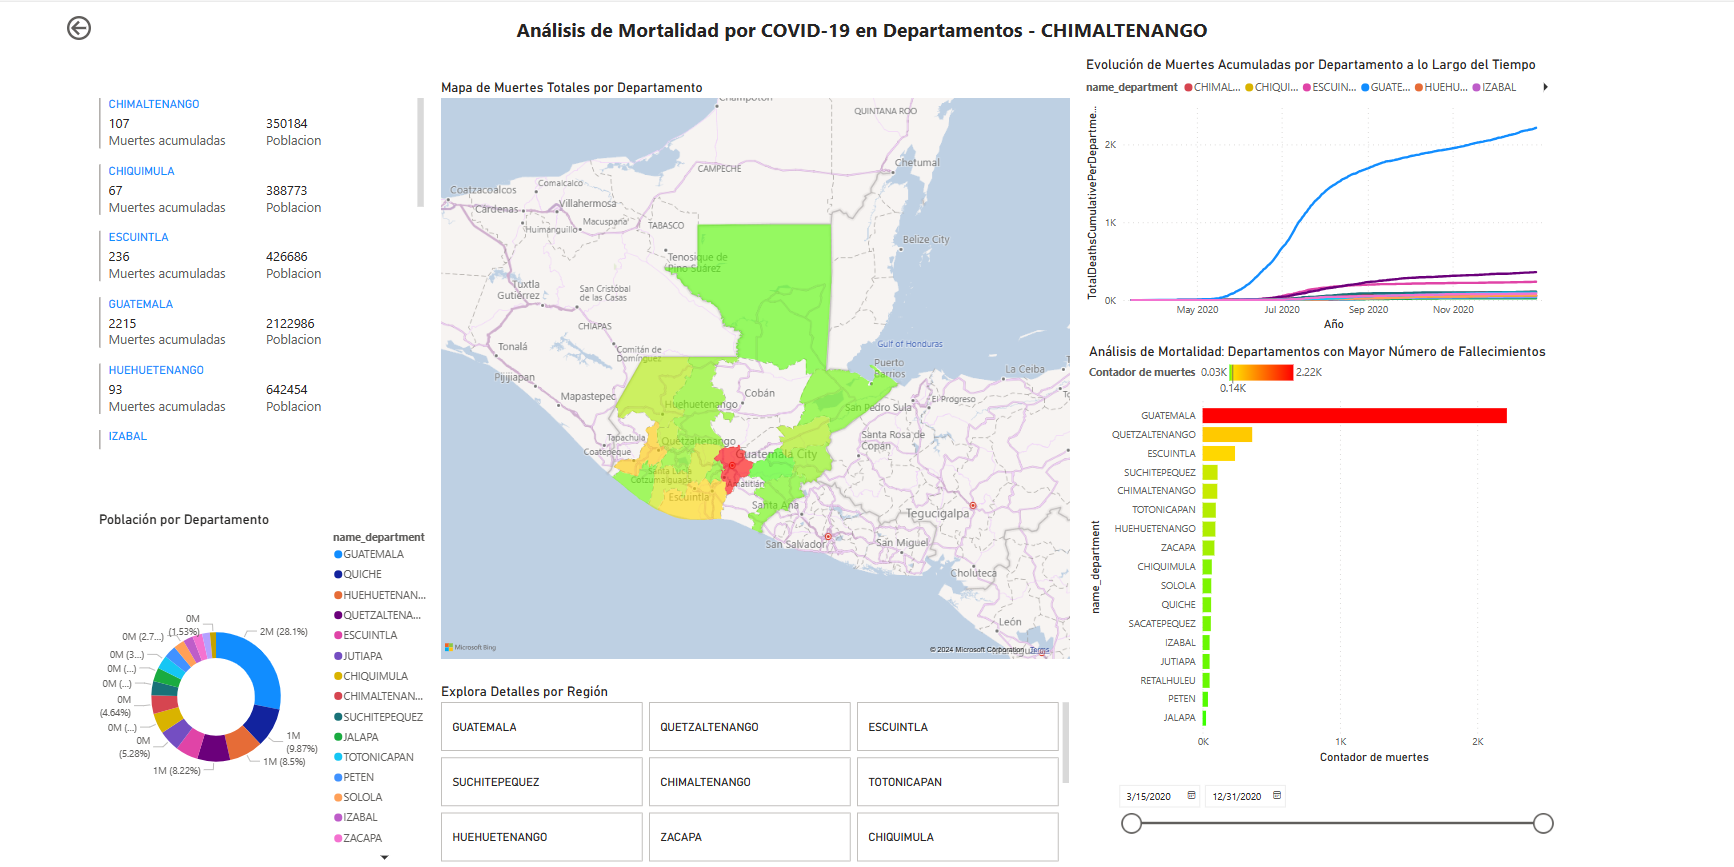

The page's visual inventory and layout, read from the dashboard file:
{"tool":"powerbi","page":{"name":"Análisis de Mortalidad por COVID-19 en Departamentos","canvas":[1920,1080],"ordinal":1},"visuals":[{"type":"filledMap","title":"Mapa de Muertes Totales por Departamento","fields":{"Category":["Department.ubicacion"]},"box":[468,83.4,795.7,730],"z":0},{"type":"advancedSlicerVisual","title":"Explora Detalles por Región","fields":{"Values":["Department.name_department"]},"box":[468,839.1,795.7,230],"z":1000},{"type":"lineChart","title":"Evolución de Muertes Acumuladas por Departamento a lo Largo del Tiempo","fields":{"Category":["MunicipalityDeathsReported.date_reported.Variación.Jerarquía de fechas.Año","MunicipalityDeathsReported.date_reported.Variación.Jerarquía de fechas.Trimestre","MunicipalityDeathsReported.date_reported.Variación.Jerarquía de fechas.Mes","MunicipalityDeathsReported.date_reported.Variación.Jerarquía de fechas.Día"],"Y":["MunicipalityDeathsReported.TotalDeathsCumulativePerDepartment"],"Series":["Department.name_department"]},"box":[1273.7,54.8,598.6,348.6],"z":2000},{"type":"clusteredBarChart","title":"Análisis de Mortalidad: Departamentos con Mayor Número de Fallecimientos","fields":{"Category":["Department.name_department"],"Y":["Sum(MunicipalityDeathsReported.new_deaths)"]},"box":[1278,413.4,594.3,530],"z":3000},{"type":"actionButton","box":[0,0,100,40],"z":4000},{"type":"multiRowCard","fields":{"Values":["Department.name_department","Sum(MunicipalityDeathsReported.new_deaths)","Sum(Municipality.population)"]},"box":[39.4,101.9,415.7,448.6],"z":5000},{"type":"slicer","fields":{"Values":["MunicipalityDeathsReported.date_reported"]},"box":[1308,956.2,564.3,91.4],"z":6000},{"type":"textbox","box":[374.3,0,1250,51.4],"z":7000},{"type":"donutChart","title":"Población por Departamento","fields":{"Category":["Department.name_department"],"Y":["Sum(Municipality.population)"]},"box":[39.4,623.4,428.6,445.7],"z":8000}]}

Visuals, with their boxes on the page's 1920x1080 design canvas (x1, y1, x2, y2). These are canvas units, not pixel positions in the 1734x867 screenshot, which may show the page scaled, cropped or inside an application window:
"Mapa de Muertes Totales por Departamento" filledMap: 468/83/1264/813
"Explora Detalles por Región" advancedSlicerVisual: 468/839/1264/1069
"Evolución de Muertes Acumuladas por Departamento a lo Largo del Tiempo" lineChart: 1274/55/1872/403
"Análisis de Mortalidad: Departamentos con Mayor Número de Fallecimientos" clusteredBarChart: 1278/413/1872/943
actionButton: 0/0/100/40
multiRowCard - Department.name_department x Sum(MunicipalityDeathsReported.new_deaths): 39/102/455/550
slicer - MunicipalityDeathsReported.date_reported: 1308/956/1872/1048
textbox: 374/0/1624/51
"Población por Departamento" donutChart: 39/623/468/1069
